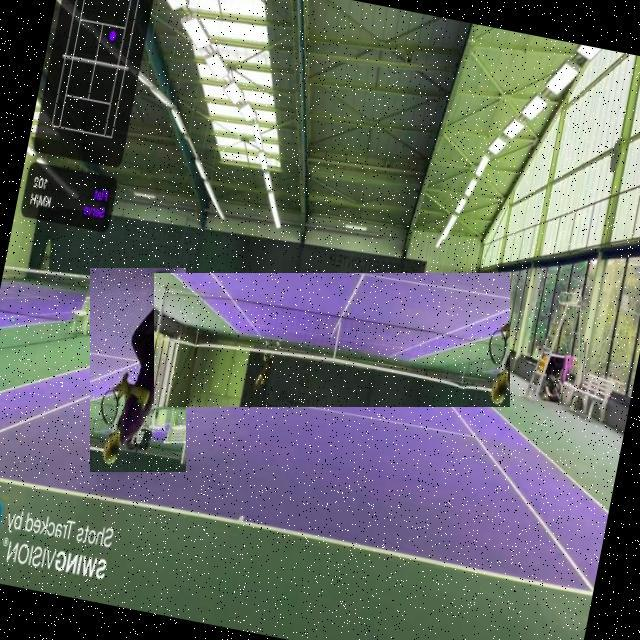court: (0, 264, 633, 598)
net: (154, 273, 510, 407)
player: (90, 268, 186, 472)
